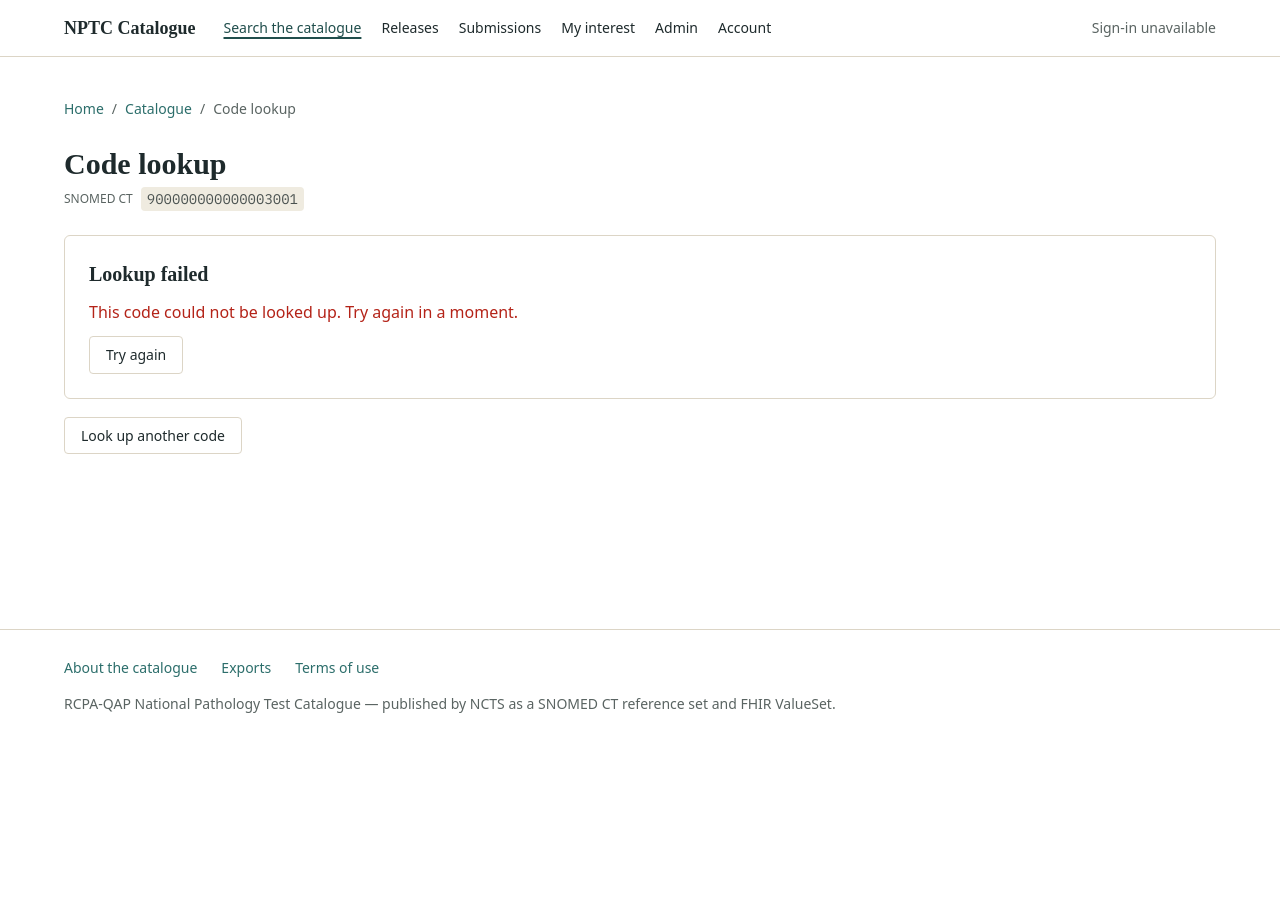
Test case: a lookup the server refuses or cannot answer › shows a failure with Try again, and shows the entry once a retry works
Expected: the element "Lookup failed" shows "This code could not be looked up. Try again in a moment.", [89,300,518,322]
Click the button "Try again" at (136, 354), box [89,336,183,374]
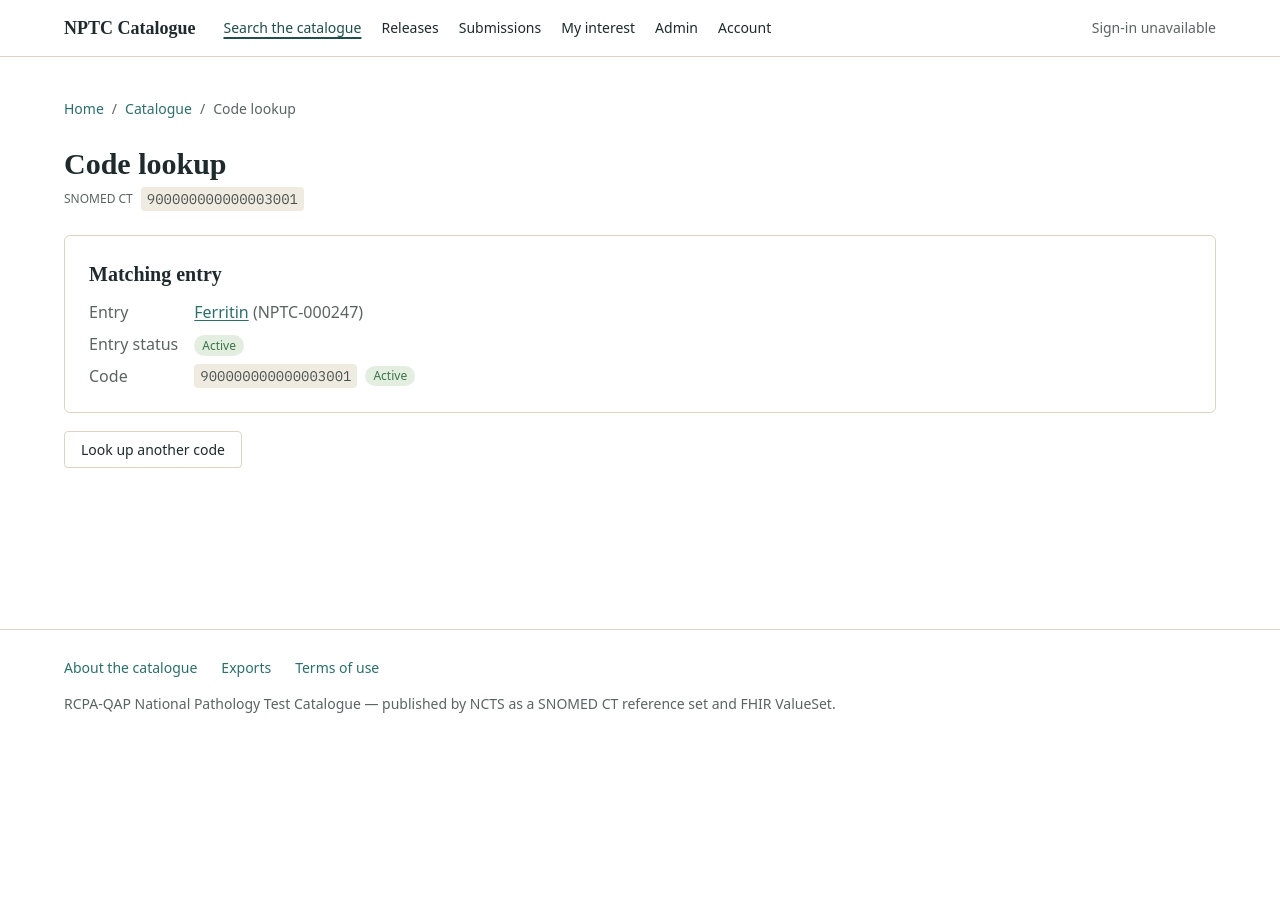
Result: the element "Matching entry" shows "Ferritin" at [194,300,249,324]
Result: the heading "Lookup failed" is gone
